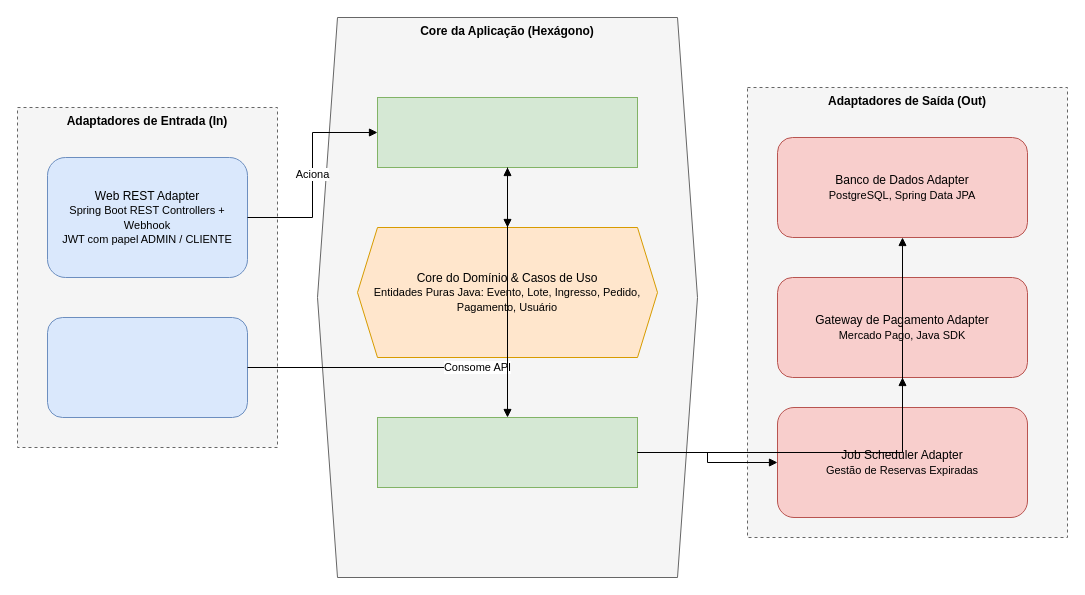
Some shapes in this 1085 by 595 pixel diagram are drawn without their labels. The shapes that lost their labels are listed below. From the top down, each one's centre as x and y in pixels, then its label:
[507,132]: Portas de Entrada Interfaces Java
[147,367]: Frontend Vue 3 (SPA) Vitrine, área do cliente e painel admin
[507,452]: Portas de Saída Interfaces Java
